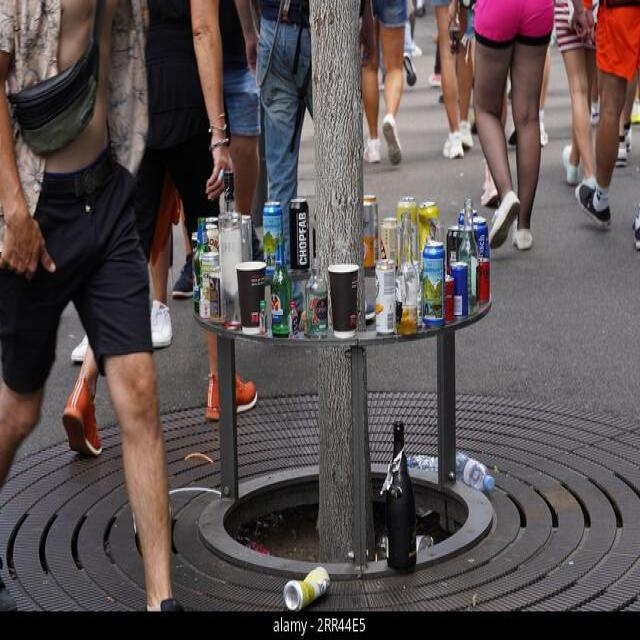glass: (216, 175, 240, 316)
metal: (425, 246, 468, 325), (378, 259, 402, 334), (402, 200, 437, 247), (293, 201, 312, 269), (266, 202, 283, 266)
plastic: (329, 269, 360, 335), (240, 264, 268, 322)
